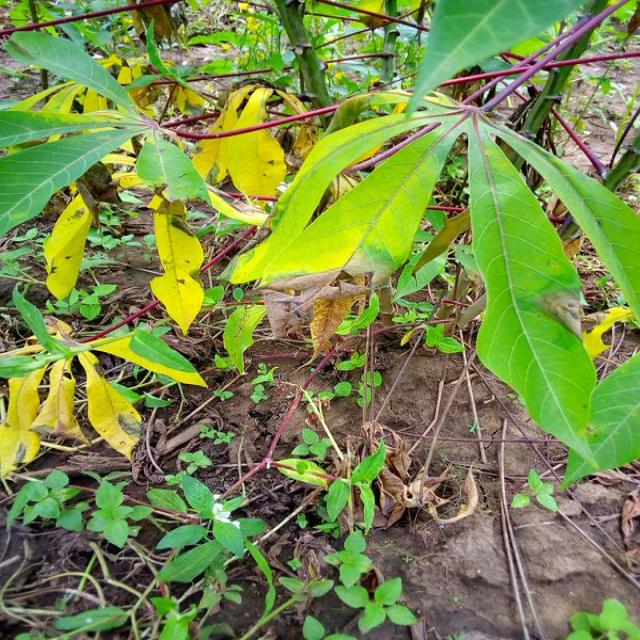cassava leaf: (465, 109, 598, 468), (229, 90, 467, 290)
